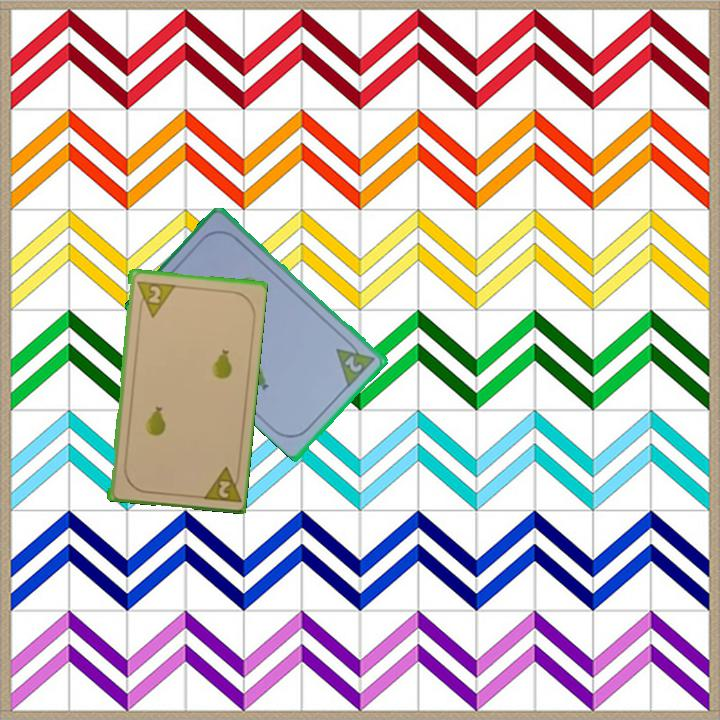2p: (333, 335, 379, 389), (197, 462, 243, 505), (133, 277, 176, 319)
